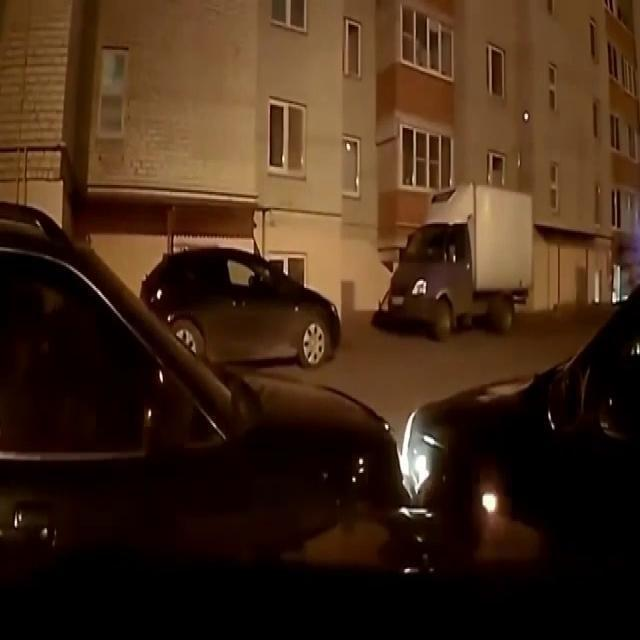multiple_accident: (337, 367, 513, 539)
